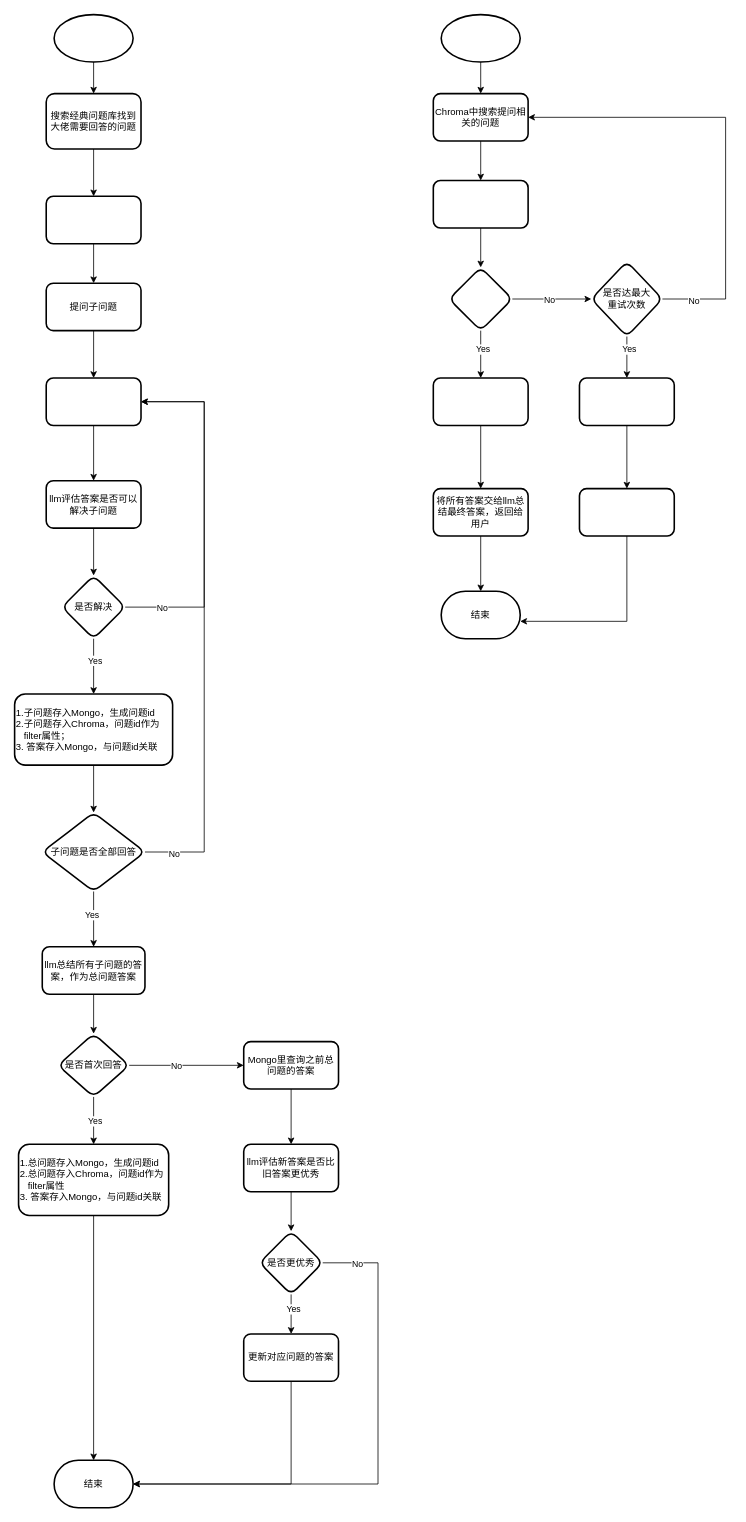
The diagram is 746 pixels wide and 1522 high, and some of its shapes have lost their labels. The centre of each missing label's shape, as x and y in pixels:
"llm将问题拆解成多个子问题" goes at [93,219].
"llm评估搜索出来的问题，是否与用户提问相关" goes at [480,203].
"大佬回答子问题" goes at [93,401].
"大佬开始表演" goes at [93,37].
"将用户提问记录到经典问题库，待后续提问大佬" goes at [626,401].
"提示大佬稍后回答问题，请稍后再来提问" goes at [626,511].
"是否相关" goes at [480,298].
"根据问题id搜索Mongo中的答案" goes at [480,401].
"用户提问" goes at [480,37].
